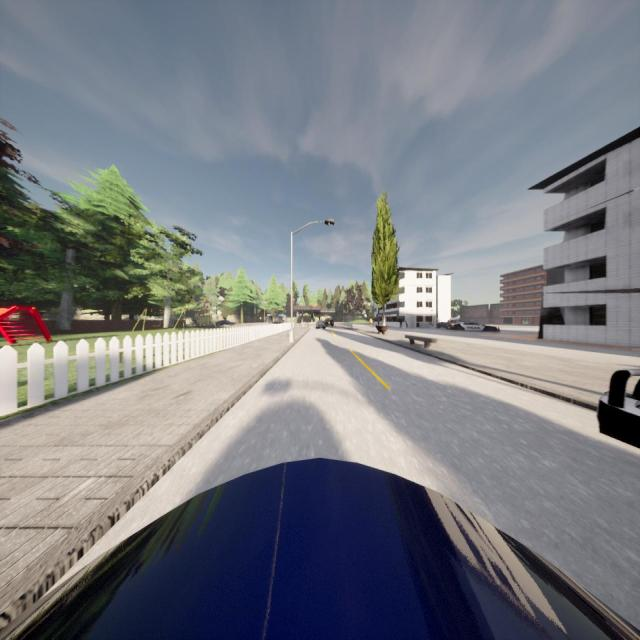Vehicle: (0, 458, 640, 638), (216, 319, 235, 326), (316, 320, 326, 330), (325, 318, 334, 327)
